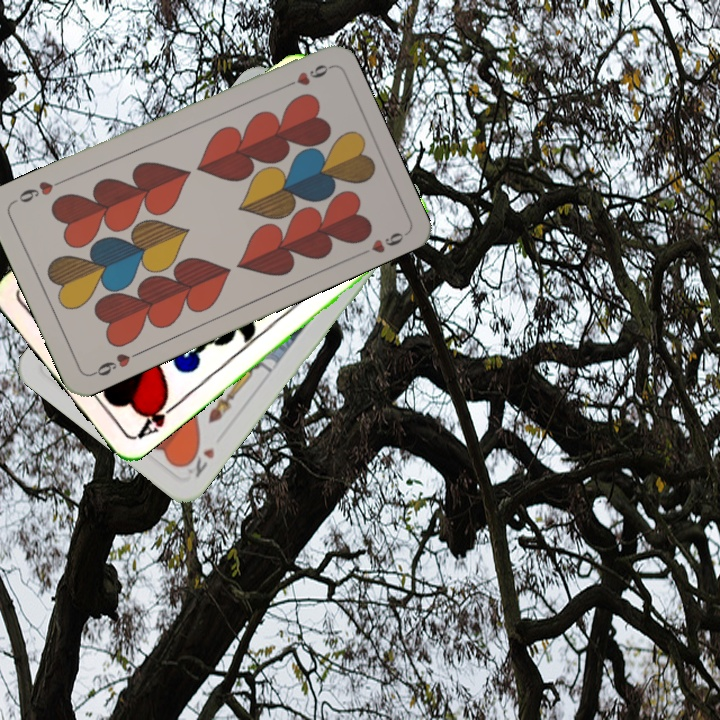H9: (276, 60, 332, 93), (87, 347, 143, 379)
HA: (132, 392, 182, 442)
HK: (179, 440, 217, 481)
